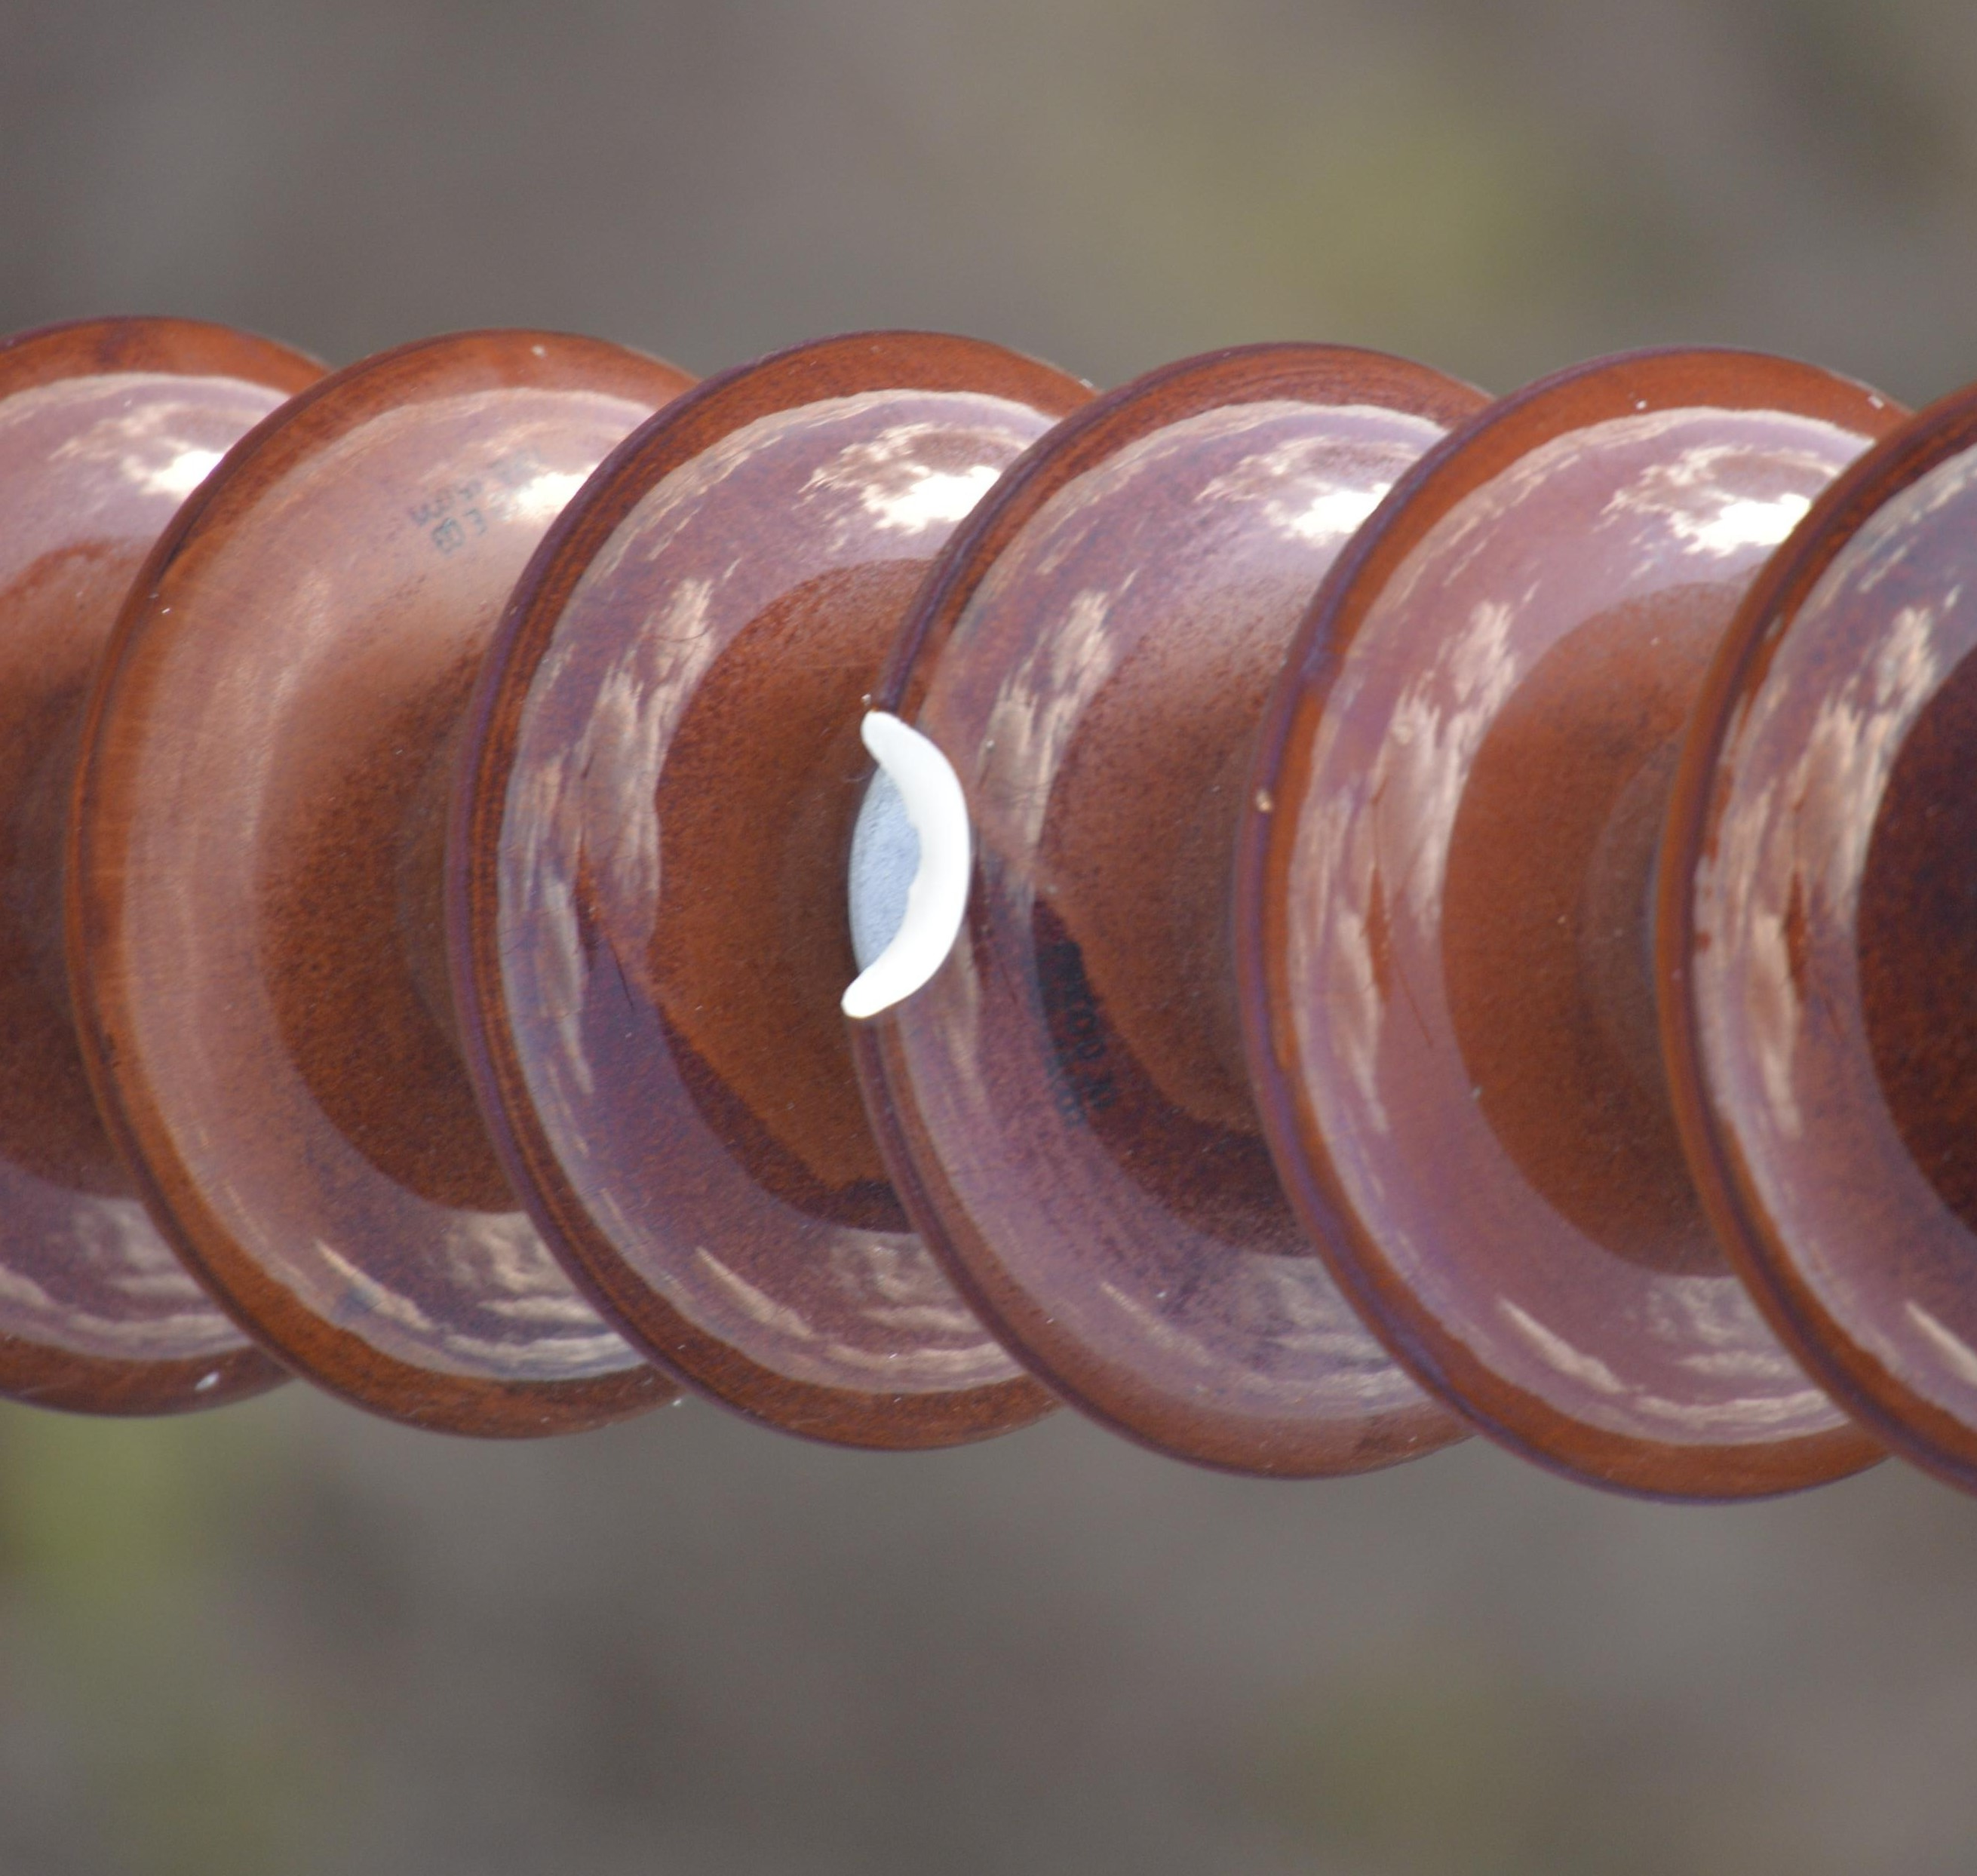insulator breakage: (815, 339, 1324, 1486)
